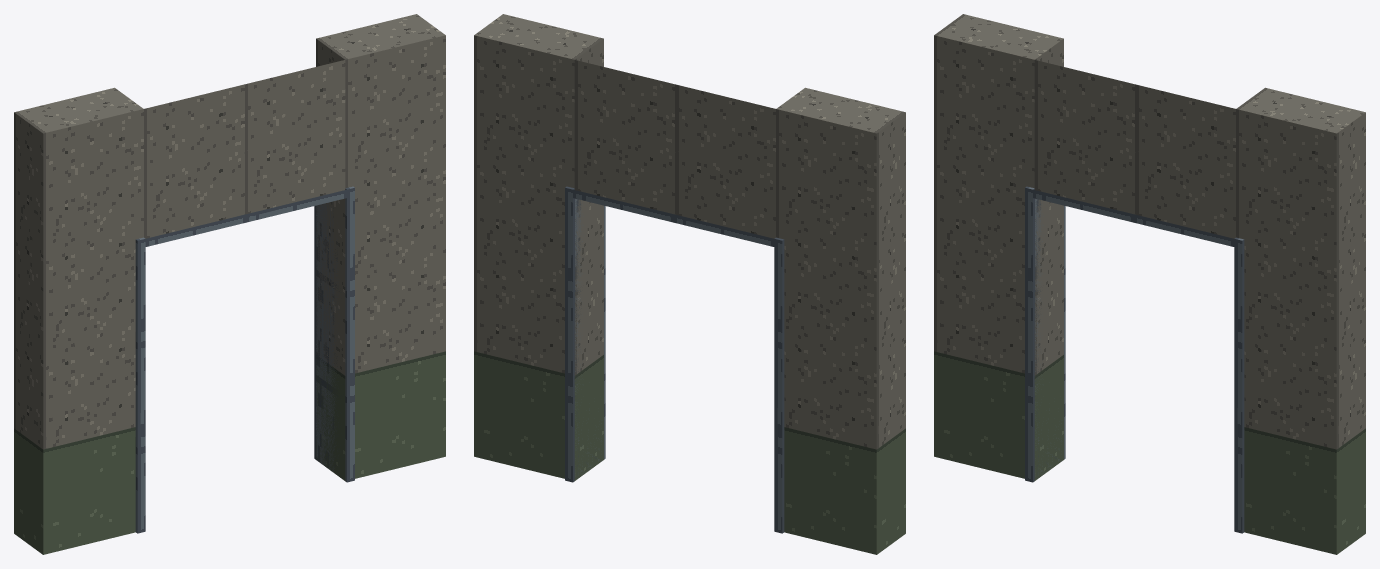
Rendered from doorway.glb.
3 views of the same model, side by side, from view 1: azimuth 30°, elevation 25°; view 2: azimuth 150°, elevation 25°; view 3: azimuth 330°, elevation 25° (orthographic).
Parts seen in each view (by area): view 1: doorway mesh; view 2: doorway mesh; view 3: doorway mesh.
Part boxes in pixels (x1=…): doorway mesh: x1=14, y1=14, x2=445, y2=554; doorway mesh: x1=474, y1=14, x2=905, y2=554; doorway mesh: x1=934, y1=14, x2=1365, y2=554.
Size of the model in its own units: 4 by 4 by 0.56.
3 materials, 3 textured.
